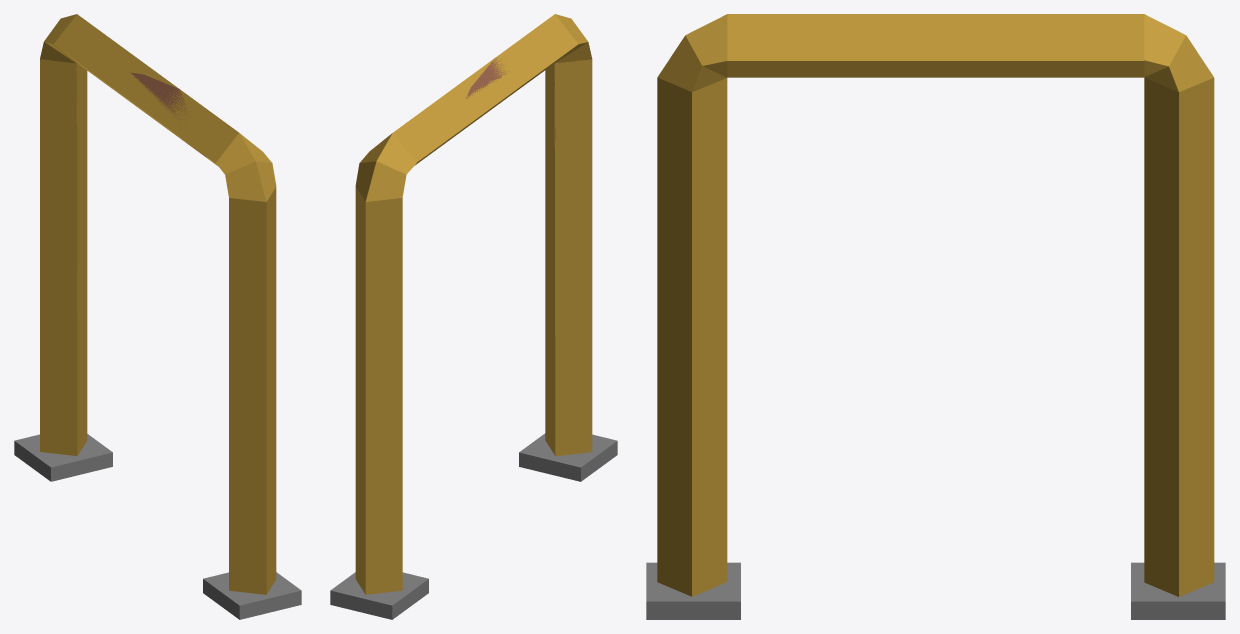
File: model_stairs_railing_03.fbx
3 renders of one model, left to right at view 1: azimuth 30°, elevation 25°; view 2: azimuth 150°, elevation 25°; view 3: azimuth 270°, elevation 25°, orthographic. The views are drawn at different scales.
Parts seen in each view (by area): view 1: model_stairs_railing_03, model_stairs_railing_03_col; view 2: model_stairs_railing_03, model_stairs_railing_03_col; view 3: model_stairs_railing_03, model_stairs_railing_03_col.
Part boxes in pixels (<box>): model_stairs_railing_03: <box>14,14,301,619</box>; model_stairs_railing_03_col: <box>40,14,276,593</box>; model_stairs_railing_03: <box>330,14,617,619</box>; model_stairs_railing_03_col: <box>355,15,592,594</box>; model_stairs_railing_03: <box>646,14,1225,619</box>; model_stairs_railing_03_col: <box>657,14,1214,596</box>.
Size of the model in its own units: 15.88 by 112 by 100.
Materials: 1 (1 with a texture image).
